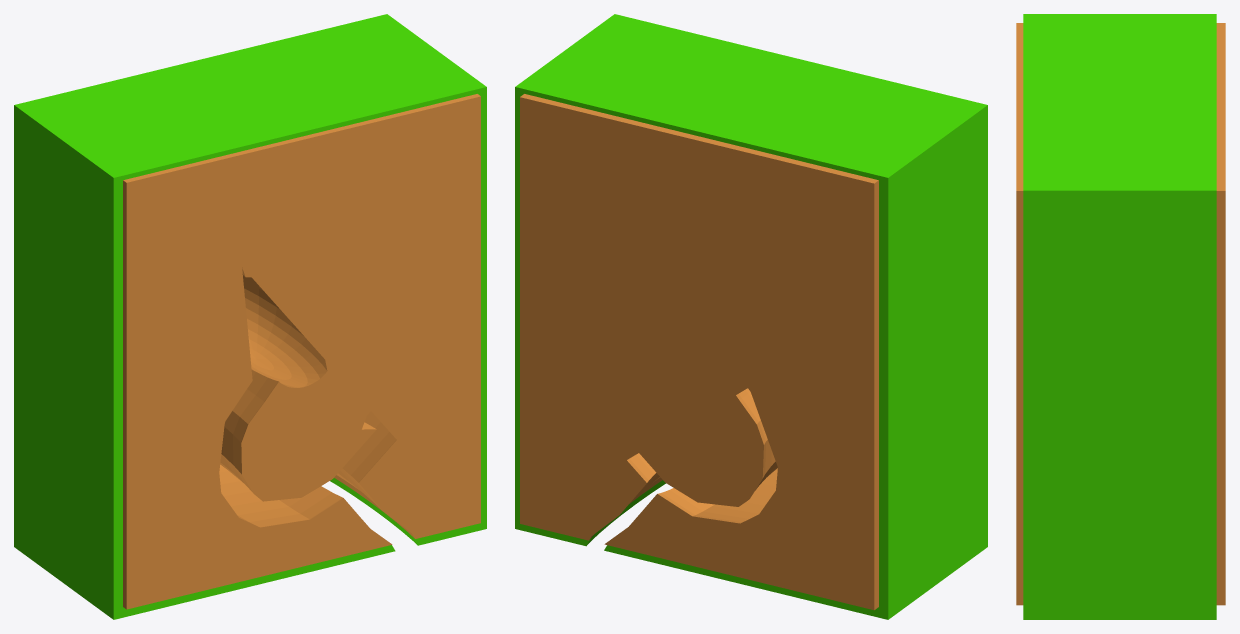
File: forUnity.fbx
The picture shows the model from 3 angles, left to right: view 1: azimuth 30°, elevation 25°; view 2: azimuth 150°, elevation 25°; view 3: azimuth 270°, elevation 25°; orthographic projection. The views are drawn at different scales.
Parts seen in each view (by area): view 1: Cube.002, Cube.003; view 2: Cube.002, Cube.003; view 3: Cube.003, Cube.002.
Boxes of the visible parts, <box> form: Cube.002: <box>123,94,480,609</box>; Cube.003: <box>14,14,486,619</box>; Cube.002: <box>520,94,878,610</box>; Cube.003: <box>515,14,987,619</box>; Cube.003: <box>1023,14,1216,619</box>; Cube.002: <box>1016,23,1225,605</box>.
Bounding box in the file's own units: 20749 × 23490 × 10379.
